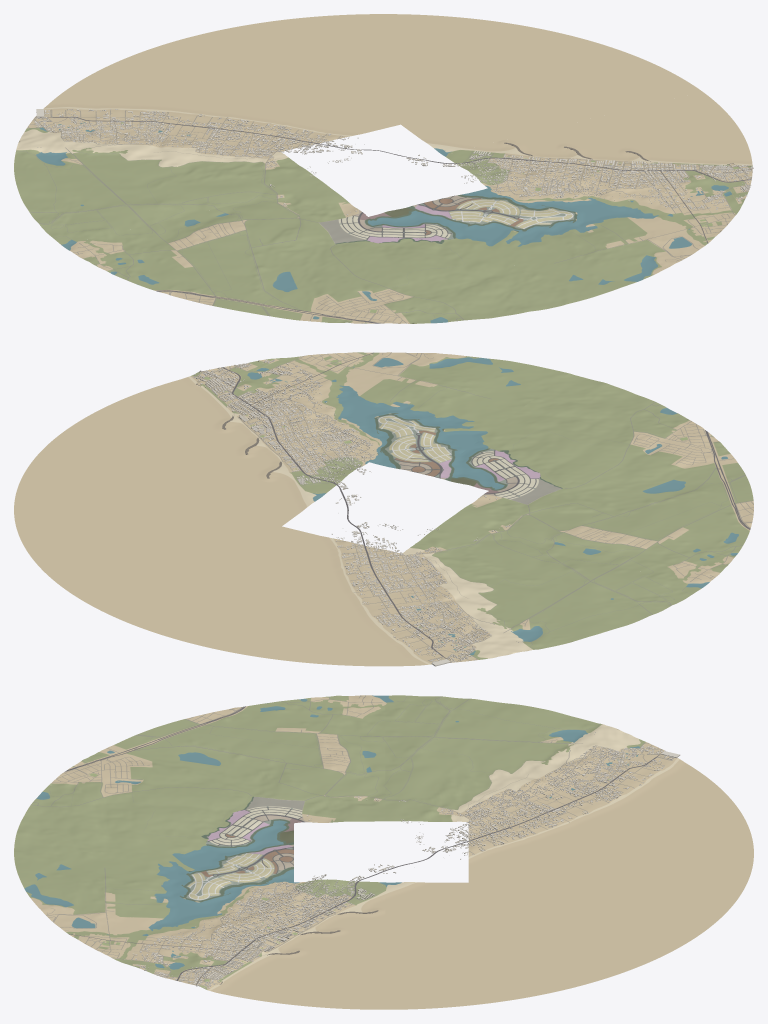
File: entorno.glb
The picture shows the model from 3 angles, top to bottom: view 1: azimuth 30°, elevation 25°; view 2: azimuth 150°, elevation 25°; view 3: azimuth 270°, elevation 25°; orthographic projection.
Parts seen in each view (by area): view 1: Entorno_11, Entorno_00, Entorno_01, Entorno_10, Predios; view 2: Entorno_00, Entorno_11, Entorno_10, Entorno_01, Predios; view 3: Entorno_00, Entorno_11, Entorno_01, Entorno_10, Predios.
Boxes of the visible parts, x1,y1,x2,y2 form: Entorno_11: [199, 14, 701, 154]; Entorno_00: [63, 181, 567, 323]; Entorno_01: [14, 35, 339, 245]; Entorno_10: [428, 91, 752, 303]; Predios: [34, 109, 753, 215]; Entorno_00: [429, 373, 753, 587]; Entorno_11: [14, 432, 341, 645]; Entorno_10: [63, 352, 568, 495]; Entorno_01: [199, 522, 702, 666]; Predios: [193, 360, 518, 666]; Entorno_00: [14, 695, 385, 853]; Entorno_11: [385, 852, 753, 1009]; Entorno_01: [385, 695, 753, 853]; Entorno_10: [14, 852, 385, 1009]; Predios: [131, 732, 680, 988].
Size of what is drawn, in the model's own units: 8000 by 51.28 by 8000.
7 materials, 4 textured.
